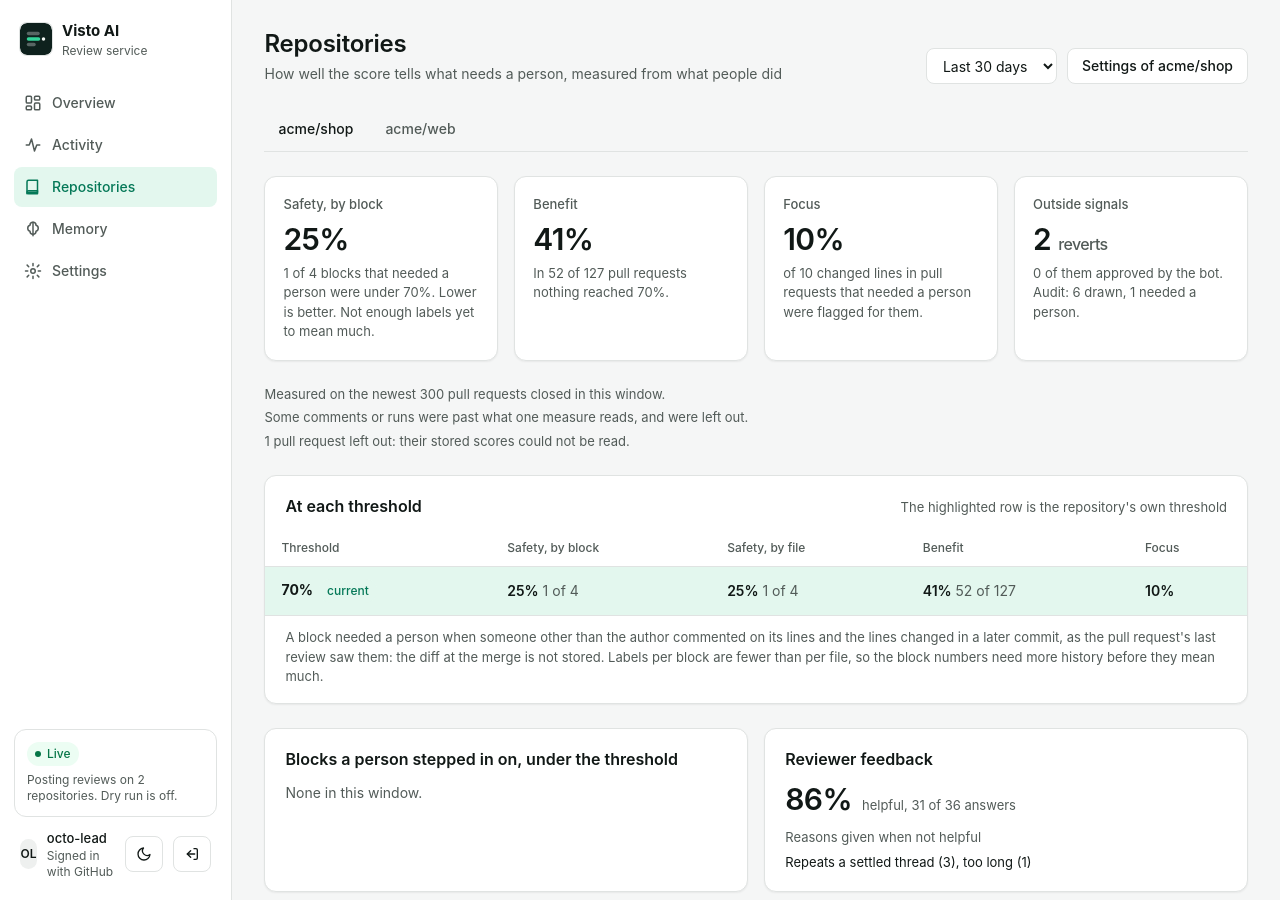
too few labels, a cut, unreadable runs and no repository are said
The width and height of the screenshot is (1280, 900).
Expected: the text "1 of 4 blocks that needed a person were under 70%. Lower is better. Not enough labels yet to mean much." is shown, [284,264,477,339]
Expected: the text "Measured on the newest 300 pull requests closed in this window." is shown, [264,386,665,402]
Select "Last 90 days" in the dropdown named "Window": (991,66) [926,48,1057,84]
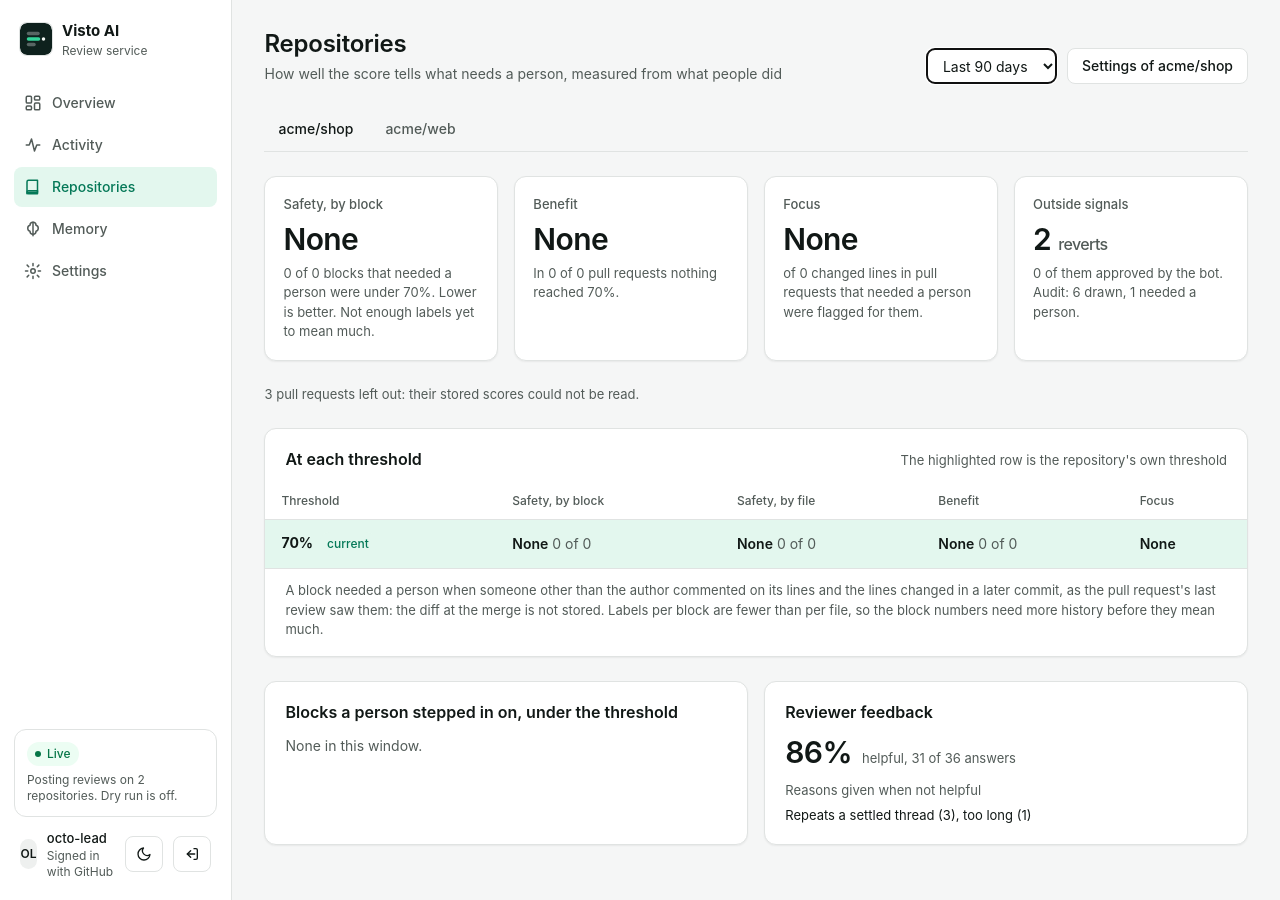
Expected: the text "No pull request closed in this window." is not shown
Expected: the text "3 pull requests left out: their stored scores could not be read." is shown, [264,386,639,402]
Expected: the text "newest 300" is gone
Select "Since install" in the dropdown named "Window": (991,66) [926,48,1057,84]
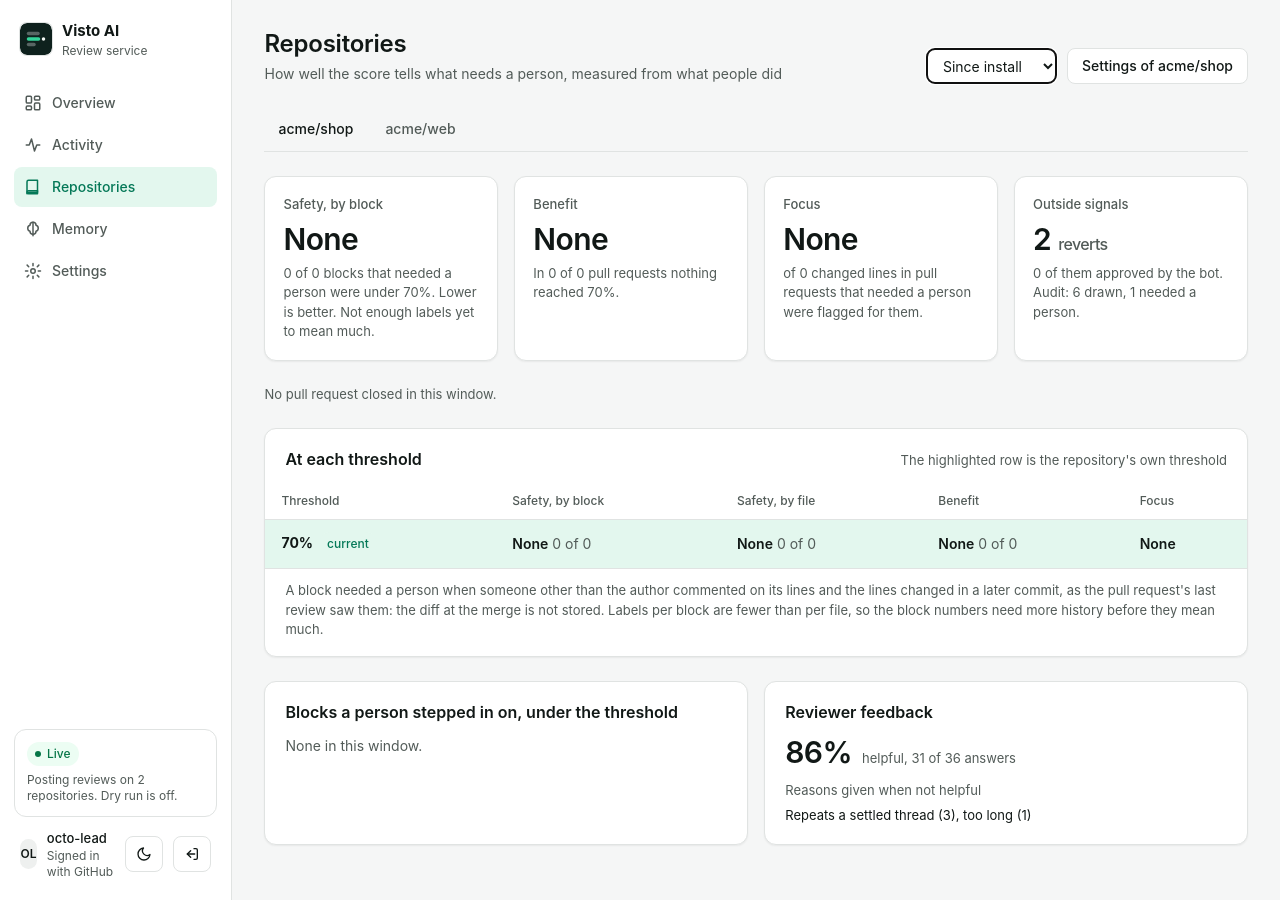
Expected: the text "No pull request closed in this window." is shown, [264,386,496,402]
